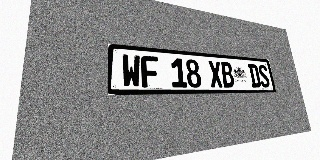1: (170, 58, 187, 88)
8: (185, 59, 202, 88)
B: (220, 62, 235, 87)
D: (248, 64, 261, 87)
F: (141, 55, 159, 88)
S: (257, 64, 271, 87)
W: (121, 54, 141, 88)
X: (208, 61, 223, 87)
